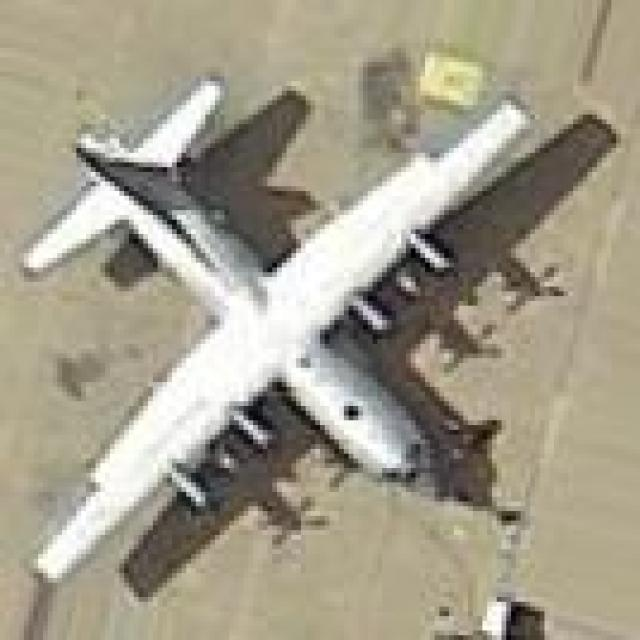C-130_TopDown: (3, 64, 616, 603)
